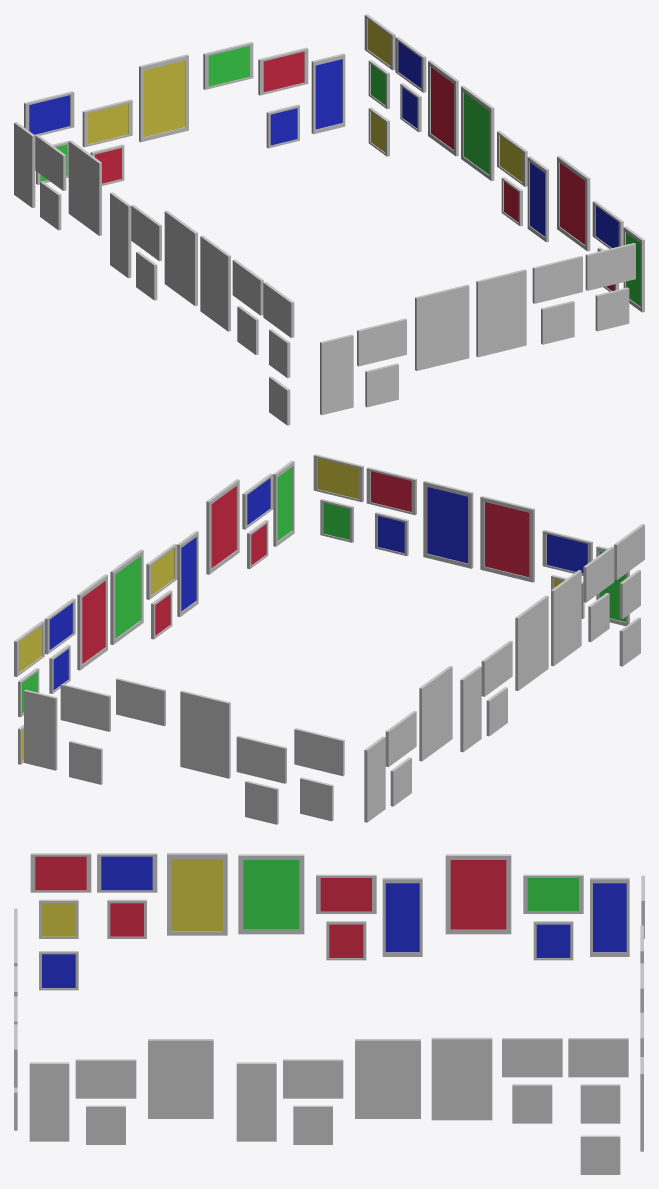
Rendered from Tableaux.fbx.
3 views of the same model, one above another, from view 1: azimuth 30°, elevation 25°; view 2: azimuth 150°, elevation 25°; view 3: azimuth 270°, elevation 25° (orthographic). The views are drawn at different scales.
Parts seen in each view (by area): view 1: Tableaux.032, Tableaux.028, Tableaux.037, Tableaux.040, Tableaux.001, Tableaux.005, Tableaux.009, Tableaux.022, Tableaux.031, Tableaux, Tableaux.015, Tableaux.041 (+32 smaller); view 2: Tableaux.032, Tableaux.037, Tableaux.028, Tableaux.009, Tableaux.001, Tableaux.005, Tableaux.022, Tableaux.040, Tableaux, Tableaux.015, Tableaux.036, Tableaux.044 (+32 smaller); view 3: Tableaux.001, Tableaux.022, Tableaux.005, Tableaux.009, Tableaux, Tableaux.015, Tableaux.004, Tableaux.008, Tableaux.018, Tableaux.021, Tableaux.006, Tableaux.027 (+16 smaller).
Boxes of the visible parts, left/top/right/bottom form: Tableaux.032: left=415, top=284, right=469, bottom=370; Tableaux.028: left=476, top=269, right=526, bottom=357; Tableaux.037: left=139, top=54, right=188, bottom=142; Tableaux.040: left=311, top=53, right=345, bottom=134; Tableaux.001: left=164, top=210, right=197, bottom=306; Tableaux.005: left=461, top=85, right=494, bottom=181; Tableaux.009: left=557, top=156, right=590, bottom=251; Tableaux.022: left=68, top=140, right=101, bottom=235; Tableaux.031: left=320, top=334, right=353, bottom=415; Tableaux: left=428, top=60, right=458, bottom=156; Tableaux.015: left=200, top=235, right=230, bottom=331; Tableaux.041: left=82, top=99, right=132, bottom=147; Tableaux.032: left=480, top=496, right=534, bottom=582; Tableaux.037: left=180, top=690, right=230, bottom=778; Tableaux.028: left=423, top=480, right=473, bottom=568; Tableaux.009: left=206, top=479, right=239, bottom=574; Tableaux.001: left=515, top=595, right=548, bottom=690; Tableaux.005: left=110, top=549, right=143, bottom=644; Tableaux.022: left=419, top=666, right=452, bottom=761; Tableaux.040: left=24, top=689, right=57, bottom=770; Tableaux: left=77, top=574, right=107, bottom=670; Tableaux.015: left=551, top=570, right=581, bottom=666; Tableaux.036: left=313, top=454, right=363, bottom=502; Tableaux.044: left=294, top=728, right=344, bottom=776; Tableaux.001: left=238, top=854, right=304, bottom=934; Tableaux.022: left=445, top=854, right=511, bottom=934; Tableaux.005: left=355, top=1039, right=420, bottom=1118; Tableaux.009: left=148, top=1039, right=213, bottom=1118; Tableaux: left=431, top=1037, right=492, bottom=1120; Tableaux.015: left=167, top=853, right=227, bottom=935; Tableaux.004: left=236, top=1062, right=276, bottom=1141; Tableaux.008: left=29, top=1062, right=69, bottom=1141; Tableaux.018: left=382, top=877, right=422, bottom=956; Tableaux.021: left=590, top=877, right=629, bottom=956; Tableaux.006: left=75, top=1059, right=136, bottom=1098; Tableaux.027: left=30, top=853, right=91, bottom=892.
Size of the model in its own units: 954 by 325 by 1367.
